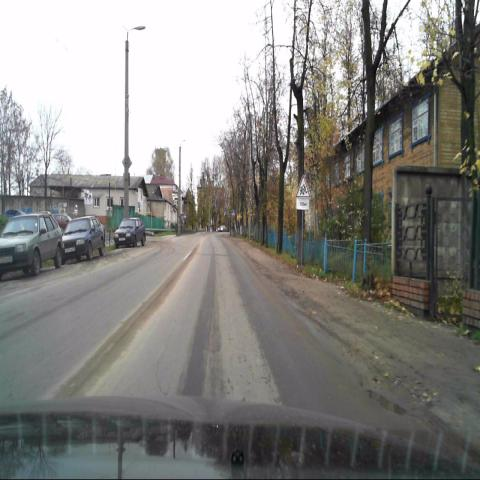1_23: (296, 175, 310, 198)
